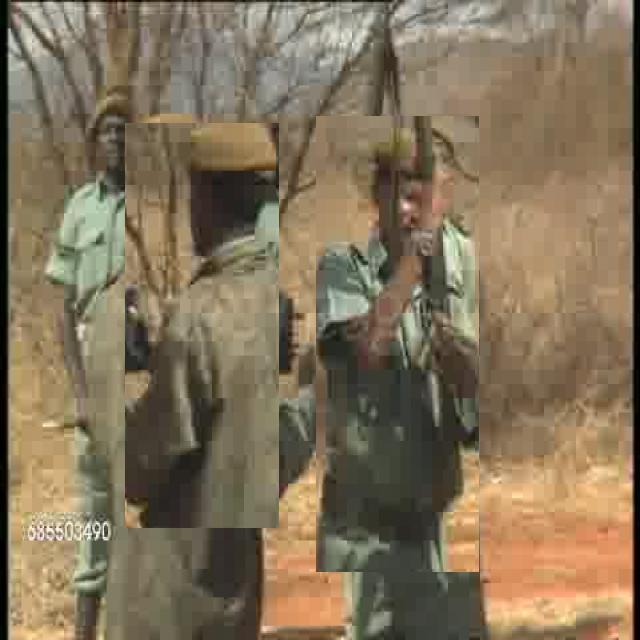poacher: (316, 115, 479, 572), (125, 123, 279, 528), (73, 88, 131, 212)
weapon: (346, 35, 384, 492)
